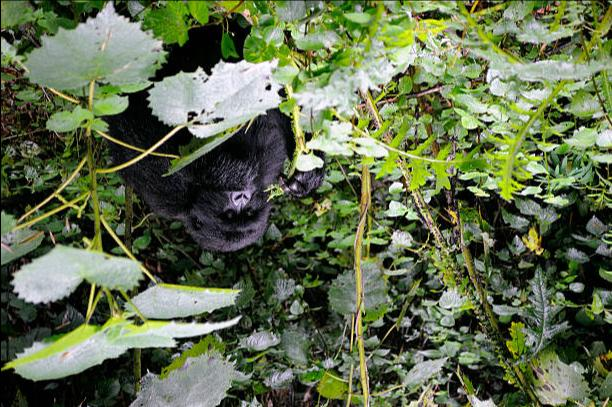goriile_montagne: (122, 127, 292, 267)
